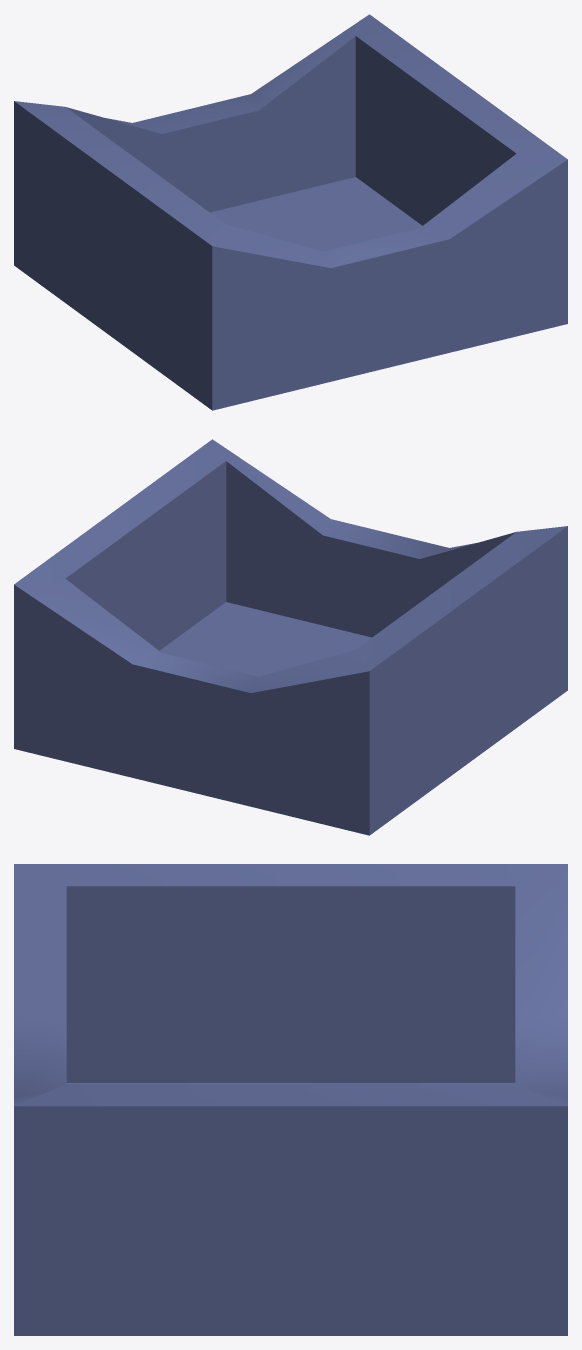
File: Tray.fbx
The picture shows the model from 3 angles, top to bottom: view 1: azimuth 30°, elevation 25°; view 2: azimuth 150°, elevation 25°; view 3: azimuth 270°, elevation 25°; orthographic projection. The views are drawn at different scales.
Parts seen in each view (by area): view 1: tray; view 2: tray; view 3: tray.
Part boxes in pixels (bbox=[...]): tray: bbox=[14, 14, 567, 410]; tray: bbox=[14, 439, 567, 835]; tray: bbox=[14, 864, 567, 1335].
Bounding box in the file's own units: 0.2074 × 0.0917 × 0.2005.
